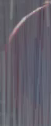No waiting: (8, 4, 45, 112)
